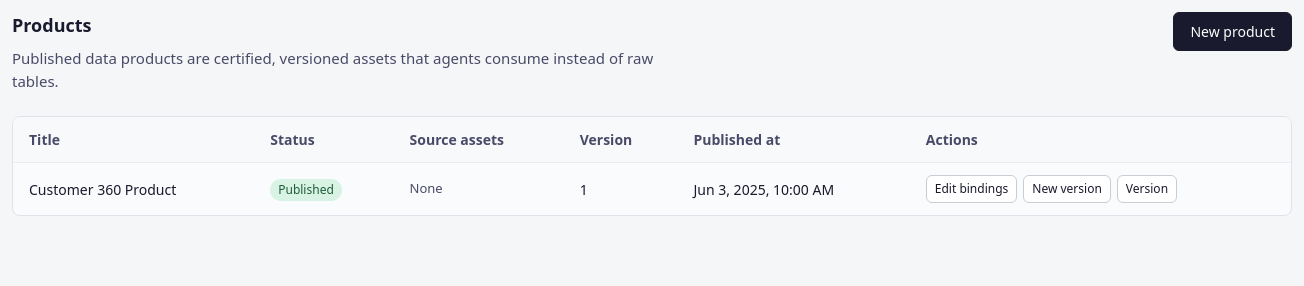
Test: ProductsPage › forks published product via New version action
Step 1. Click the button "New version" → (1067, 189), box [1023,175,1111,203]
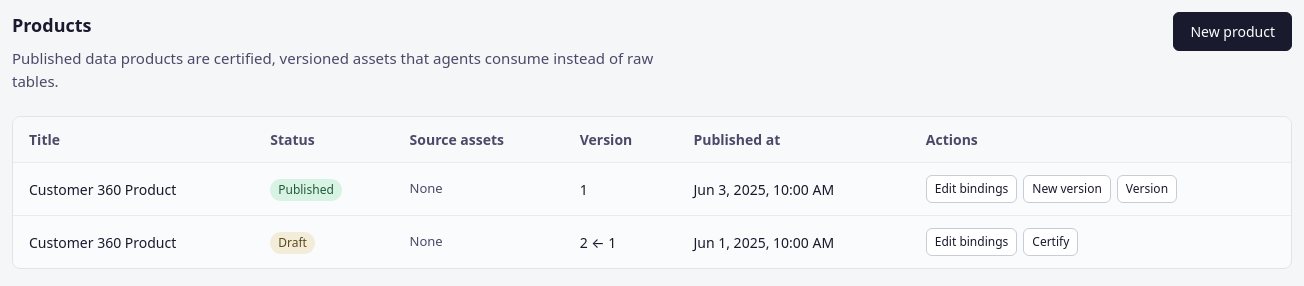
Result: the text "2 ← 1" is shown at [564,216,678,268]
